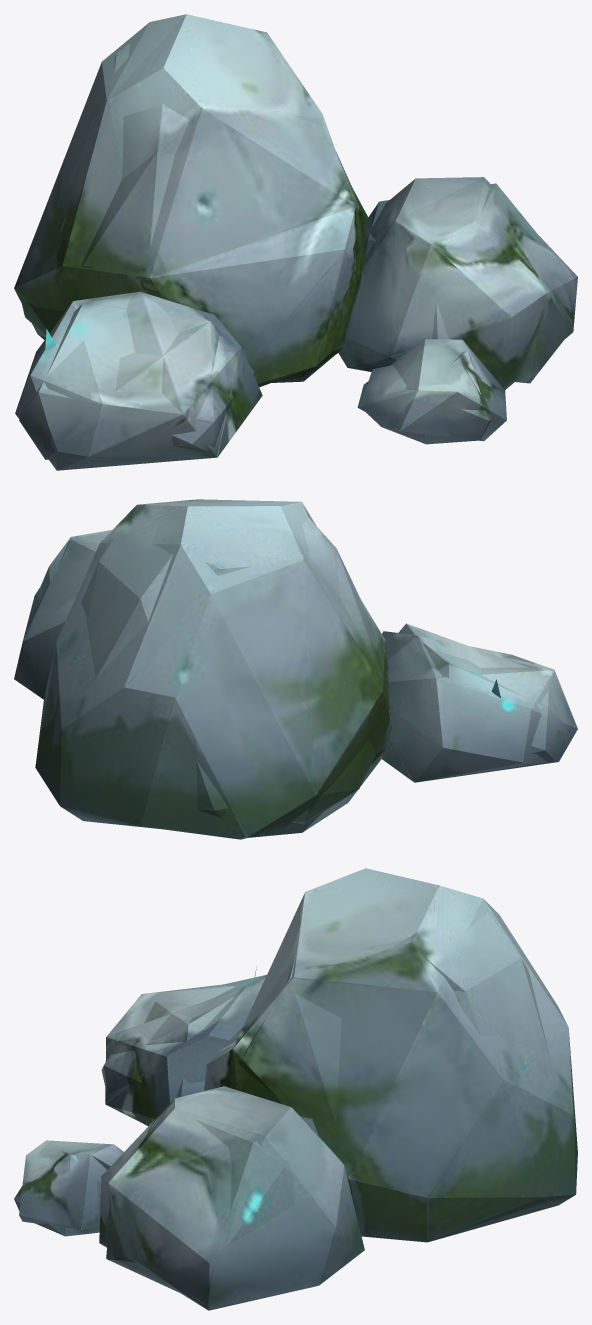
The model's file is v-rochers-semis.glb.
3 views of the same model, one above another, from view 1: azimuth 30°, elevation 25°; view 2: azimuth 150°, elevation 25°; view 3: azimuth 270°, elevation 25° (orthographic). The views are drawn at different scales.
Parts seen in each view (by area): view 1: v-rochers-semis; view 2: v-rochers-semis; view 3: v-rochers-semis.
Boxes of the visible parts, x1,y1,x2,y2 form: v-rochers-semis: (14, 14, 577, 470); v-rochers-semis: (14, 499, 577, 839); v-rochers-semis: (14, 868, 577, 1310).
Size of the model in its own units: 2 by 1.04 by 1.79.
Materials: 1 (1 with a texture image).
